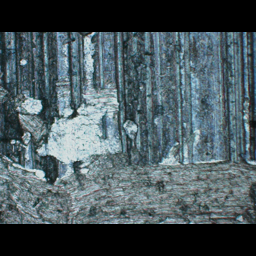d: (0, 152, 255, 224), (0, 60, 146, 164)
